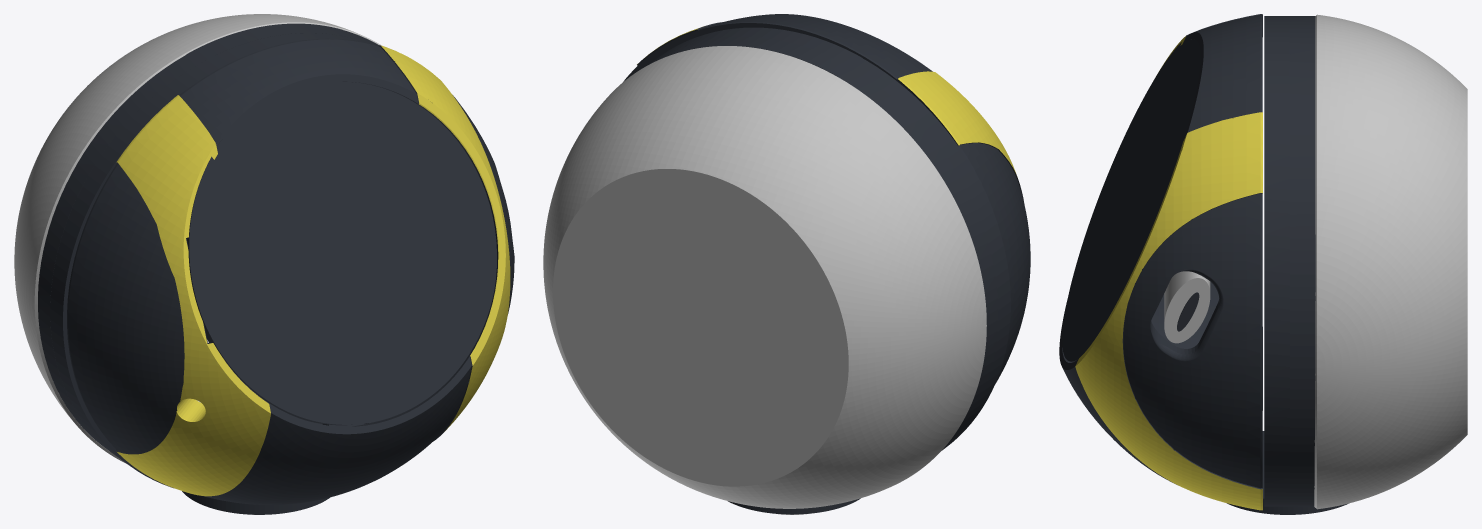
File: poketama-ultra-screen.glb
3 views of the same model, side by side, from view 1: azimuth 30°, elevation 25°; view 2: azimuth 150°, elevation 25°; view 3: azimuth 270°, elevation 25° (orthographic).
Size of the model in its own units: 1.94 by 2 by 1.58.
